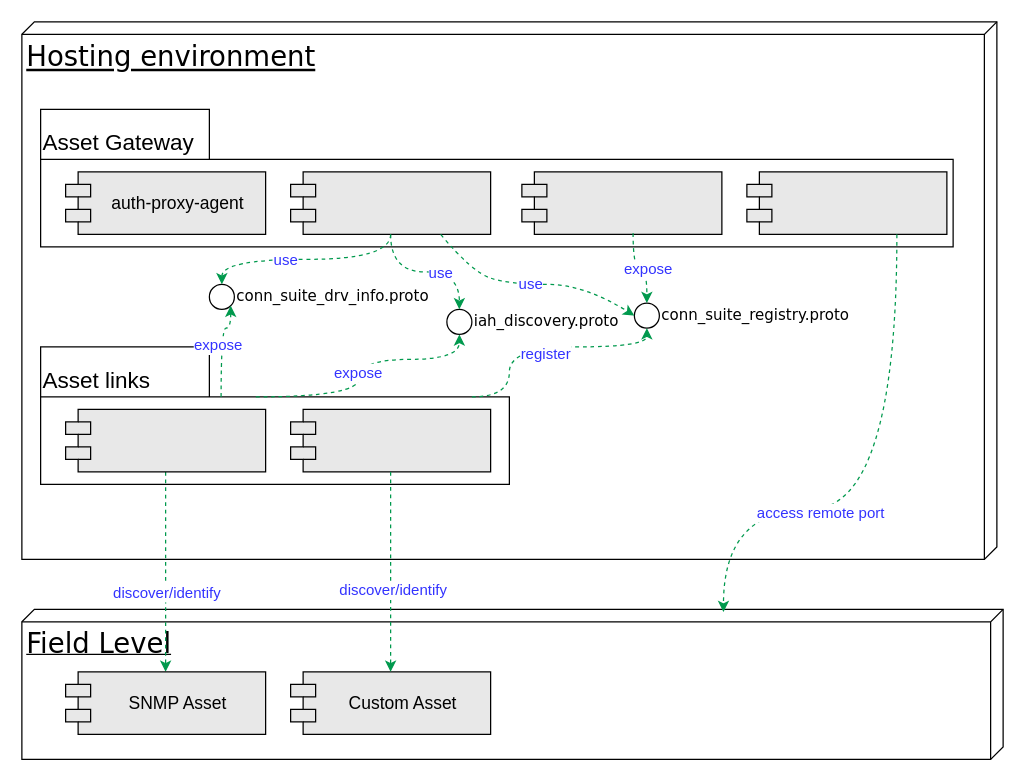
Image size: 1025x781. Some labels were removed from this diagram. The shapes that lost their labels are listed below. From the top down, each one's centre as x and y in pixels, then its label:
At pixel 390 202: "discovery-agent".
At pixel 621 202: "grpc-server-registry".
At pixel 846 202: "remote-access-agent".
At pixel 165 440: "Asset link SNMP".
At pixel 390 440: "Custom Asset link".
